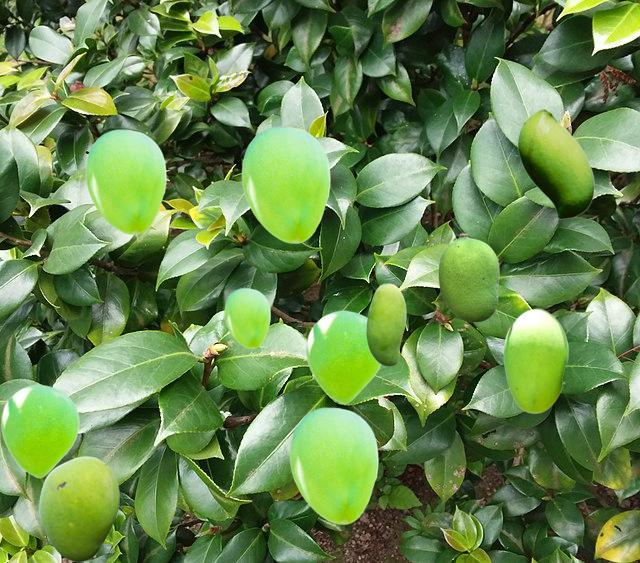green_mango: (289, 407, 377, 523), (241, 126, 329, 242), (517, 108, 593, 218), (85, 129, 165, 233), (39, 456, 118, 560), (1, 384, 78, 477), (306, 310, 381, 403), (503, 308, 567, 412), (438, 233, 498, 321), (366, 283, 405, 365), (224, 288, 269, 347)
